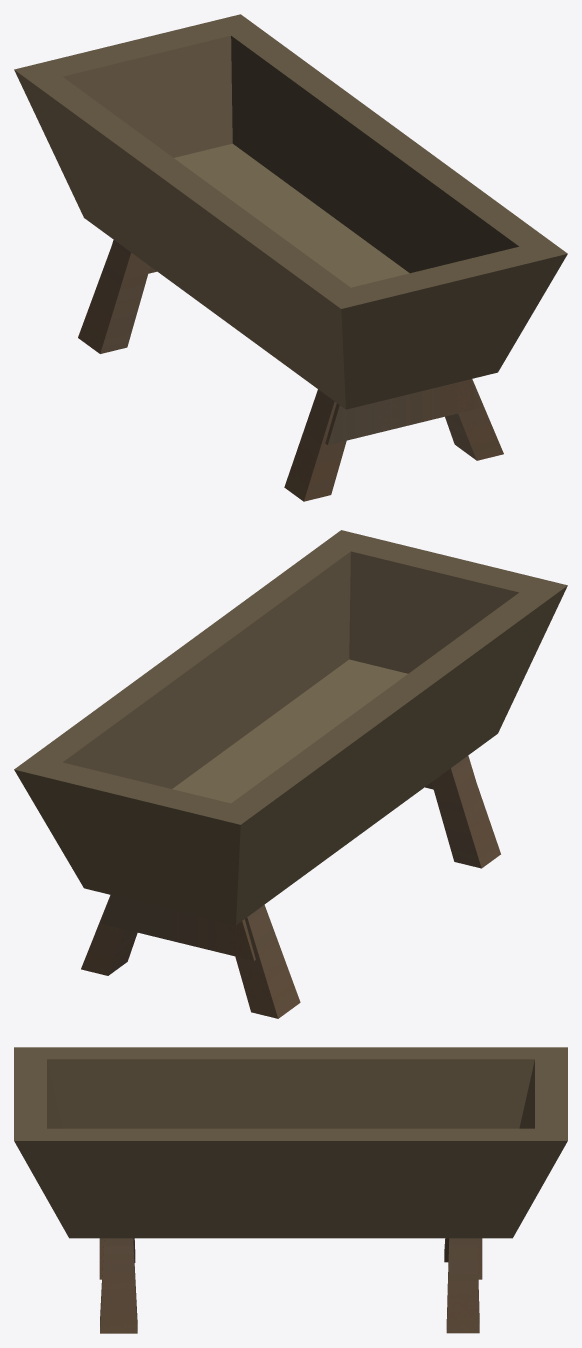
Rendered from Trough_1_LOD1.fbx.
3 views of the same model, one above another, from view 1: azimuth 30°, elevation 25°; view 2: azimuth 150°, elevation 25°; view 3: azimuth 270°, elevation 25° (orthographic). The views are drawn at different scales.
Visible parts, largest first — view 1: polySurface9729; view 2: polySurface9729; view 3: polySurface9729.
Part boxes in pixels (x1,y1,x2,y2): polySurface9729: (14,14,567,501); polySurface9729: (14,530,567,1018); polySurface9729: (14,1047,567,1333).
Size of the model in its own units: 104 by 102 by 259.
